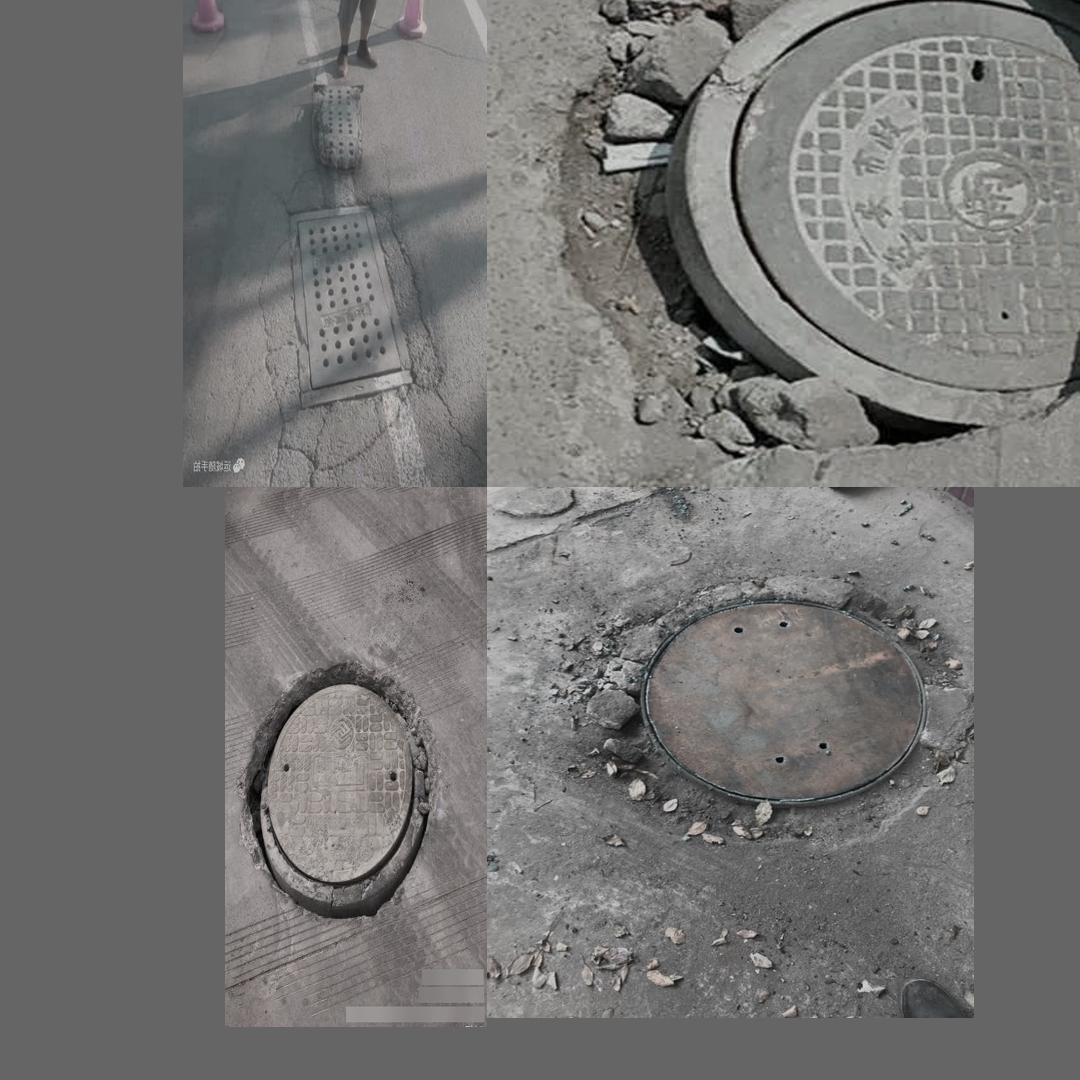circle: (572, 0, 1080, 440), (545, 568, 960, 861), (251, 180, 447, 465), (246, 663, 434, 924)
